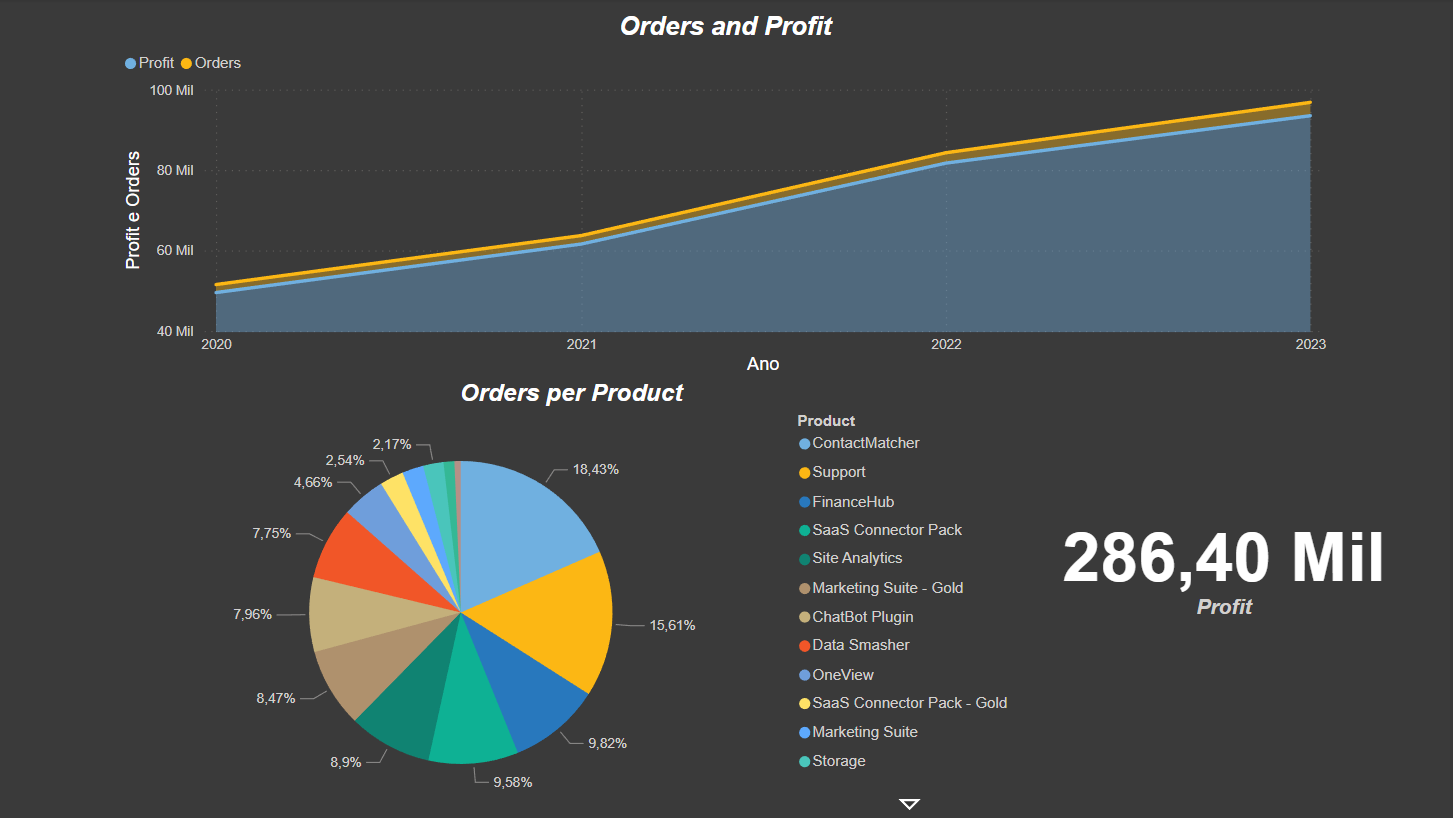

What the dashboard file says about the page in this screenshot:
{"tool":"powerbi","page":{"name":"report02","canvas":[1280,720],"ordinal":1},"visuals":[{"type":"stackedAreaChart","title":"Orders and Profit","fields":{"Category":["saascleaned.Date Key.Variation.Hierarquia de datas.Ano","saascleaned.Date Key.Variation.Hierarquia de datas.Trimestre","saascleaned.Date Key.Variation.Hierarquia de datas.Mês","saascleaned.Date Key.Variation.Hierarquia de datas.Dia"],"Y":["Sum(saascleaned.Profit)","CountNonNull(saascleaned.Order ID)"]},"box":[107,10.7,1066,322.9],"z":0},{"type":"pieChart","title":"Orders per Product","fields":{"Y":["CountNonNull(saascleaned.Order ID)"],"Category":["saascleaned.Product"]},"box":[107,333.6,795.6,386.1],"z":1000},{"type":"card","fields":{"Values":["Sum(saascleaned.Profit)"]},"box":[902.6,371.4,351.2,247.6],"z":2000}]}

Visuals, with their boxes in screenshot pixels (x1, y1, x2, y2), scaled from the page's 1280x720 canvas onto the 1453x818 screenshot:
"Orders and Profit" stackedAreaChart: bbox=[121, 12, 1332, 379]
"Orders per Product" pieChart: bbox=[121, 379, 1025, 817]
card - Sum(saascleaned.Profit): bbox=[1025, 422, 1423, 703]
